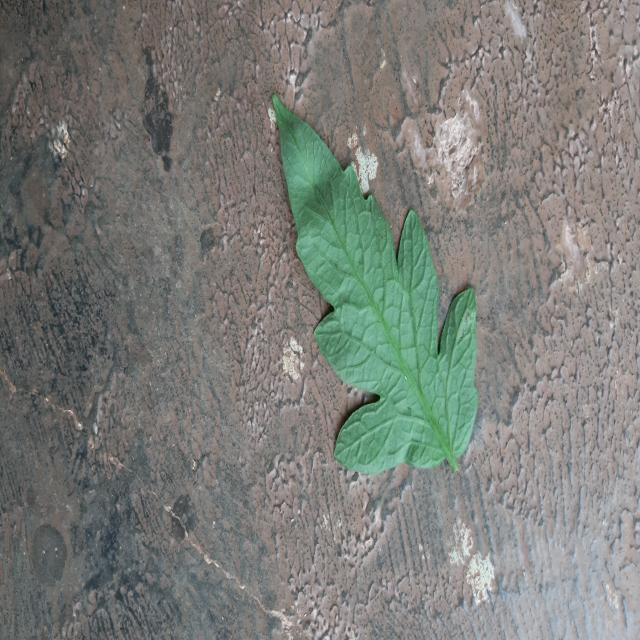tomato: (272, 96, 478, 473)
